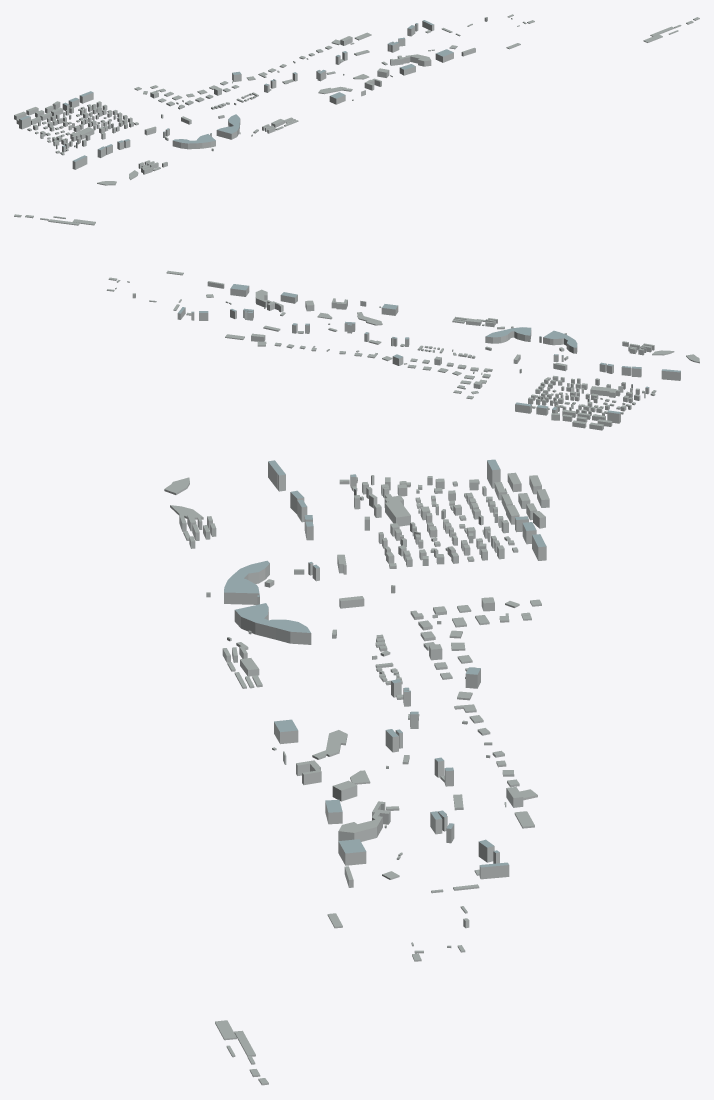
File: far.glb
3 views of the same model, one above another, from view 1: azimuth 30°, elevation 25°; view 2: azimuth 150°, elevation 25°; view 3: azimuth 270°, elevation 25° (orthographic). The views are drawn at different scales.
Size of the model in its own units: 2117 by 29.83 by 566.
